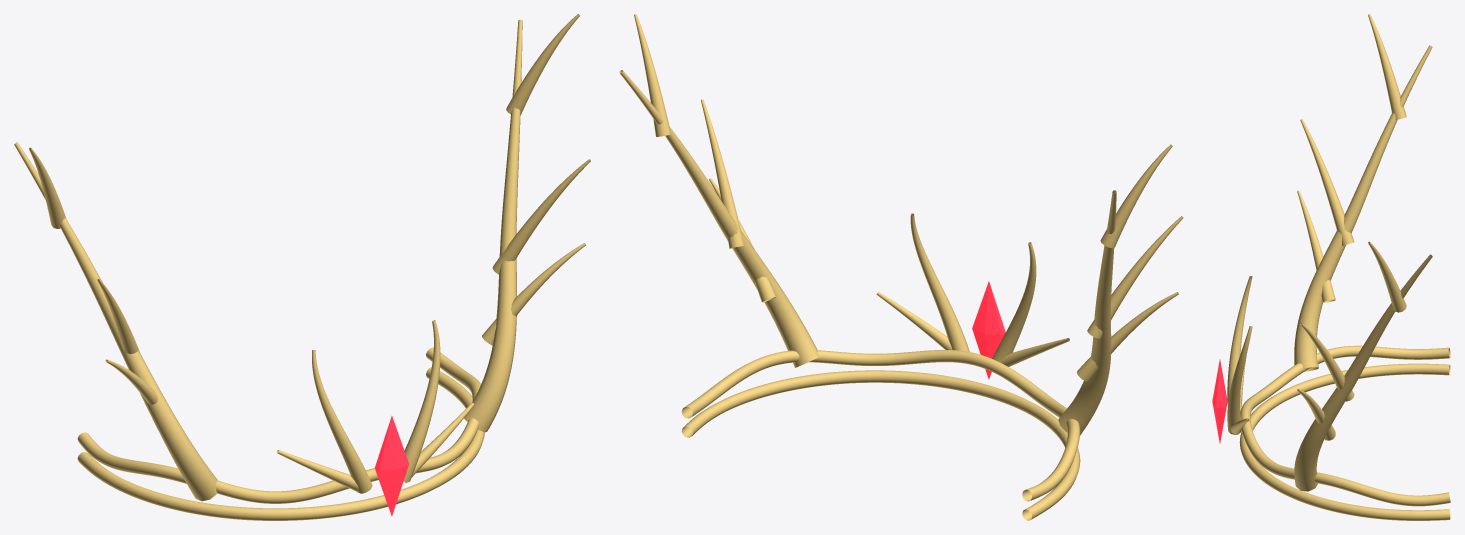
File: Coroa_Galhos.glb
The picture shows the model from 3 angles, left to right: view 1: azimuth 30°, elevation 25°; view 2: azimuth 150°, elevation 25°; view 3: azimuth 270°, elevation 25°; orthographic projection. The views are drawn at different scales.
Visible parts, largest first — view 1: Aro_0, Galho_1, Galho_-1, Aro_1, Rubi, Meio_1, Meio_-1, Ponta_1_5, Ponta_1_8, Ponta_1_3, Ponta_-1_8, Ponta_-1_5 (+2 smaller); view 2: Aro_1, Aro_0, Galho_1, Galho_-1, Meio_1, Rubi, Meio_-1, Ponta_1_5, Ponta_-1_5, Ponta_-1_8, Ponta_1_8, Ponta_-1_3 (+1 smaller); view 3: Aro_0, Aro_1, Galho_-1, Galho_1, Ponta_-1_5, Ponta_-1_8, Meio_1, Meio_-1, Ponta_-1_3, Rubi, Ponta_1_8, Ponta_1_5 (+1 smaller).
Boxes of the visible parts, left/top/right/bottom form: Aro_0: left=77, top=367, right=484, bottom=520; Galho_1: left=464, top=19, right=522, bottom=432; Galho_-1: left=14, top=142, right=217, bottom=501; Aro_1: left=77, top=347, right=480, bottom=503; Rubi: left=374, top=416, right=408, bottom=516; Meio_1: left=403, top=320, right=440, bottom=482; Meio_-1: left=312, top=350, right=372, bottom=493; Ponta_1_5: left=492, top=159, right=590, bottom=274; Ponta_1_8: left=506, top=14, right=579, bottom=115; Ponta_1_3: left=482, top=243, right=585, bottom=345; Ponta_-1_8: left=29, top=147, right=66, bottom=228; Ponta_-1_5: left=97, top=279, right=139, bottom=354; Aro_1: left=681, top=350, right=1080, bottom=501; Aro_0: left=681, top=370, right=1080, bottom=520; Galho_1: left=619, top=70, right=819, bottom=367; Galho_-1: left=1058, top=190, right=1116, bottom=435; Meio_1: left=910, top=213, right=969, bottom=351; Rubi: left=972, top=281, right=1005, bottom=379; Meio_-1: left=992, top=242, right=1036, bottom=362; Ponta_1_5: left=701, top=99, right=744, bottom=248; Ponta_-1_5: left=1087, top=216, right=1183, bottom=338; Ponta_-1_8: left=1100, top=144, right=1172, bottom=248; Ponta_1_8: left=634, top=14, right=671, bottom=136; Ponta_-1_3: left=1077, top=292, right=1178, bottom=381; Aro_0: left=1239, top=363, right=1450, bottom=520; Aro_1: left=1240, top=345, right=1450, bottom=506; Galho_-1: left=1294, top=45, right=1432, bottom=371; Galho_1: left=1294, top=254, right=1432, bottom=491; Ponta_-1_5: left=1300, top=119, right=1354, bottom=245; Ponta_-1_8: left=1368, top=14, right=1406, bottom=119; Meio_1: left=1227, top=326, right=1252, bottom=434; Meio_-1: left=1227, top=276, right=1252, bottom=410; Ponta_-1_3: left=1297, top=190, right=1335, bottom=302; Rubi: left=1212, top=359, right=1227, bottom=443; Ponta_1_8: left=1368, top=241, right=1406, bottom=312; Ponta_1_5: left=1300, top=323, right=1354, bottom=401.
Size of the model in its own units: 0.3493 by 0.2268 by 0.1535.
